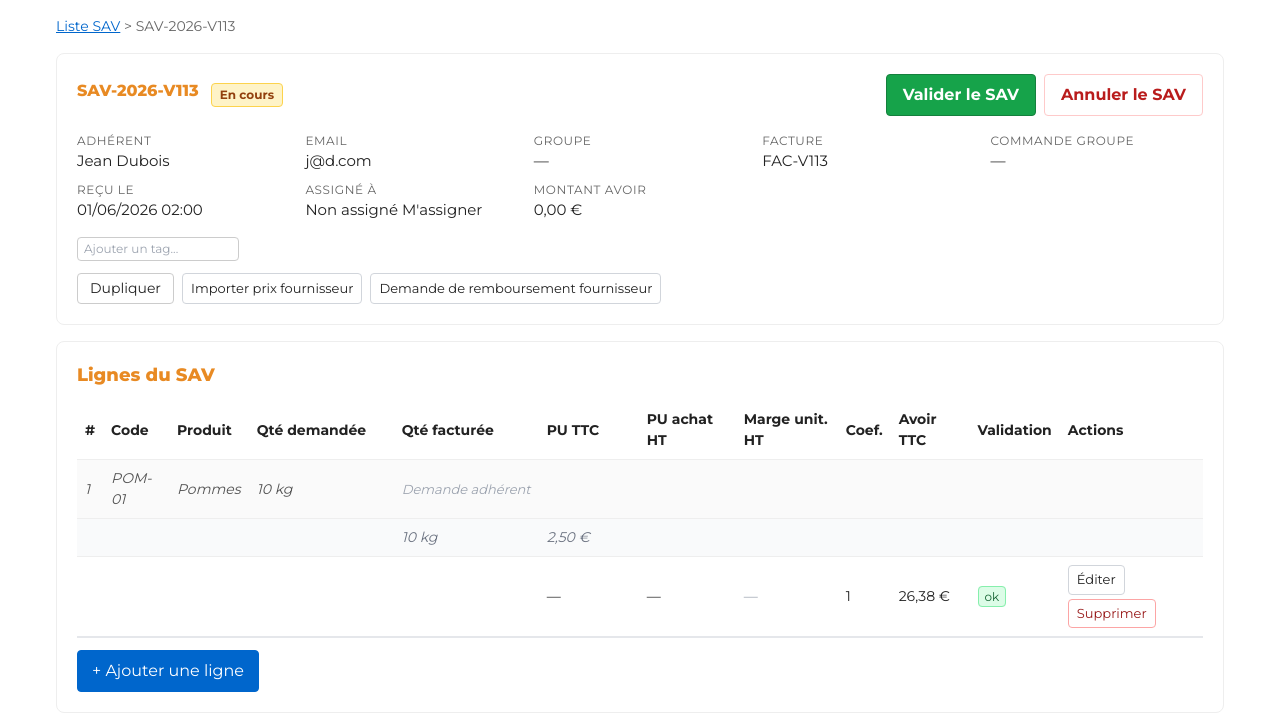
Scenario: SavDetailView — V1.13 AC#8 gate Valider › AC#8 (e) 422 CREDIT_NOTE_PDF_REQUIRED (race UI obsolète) → toast spécifique
Click the button with test id "sav-validate-btn" at {"x": 961, "y": 95}, box [886,74,1036,116]
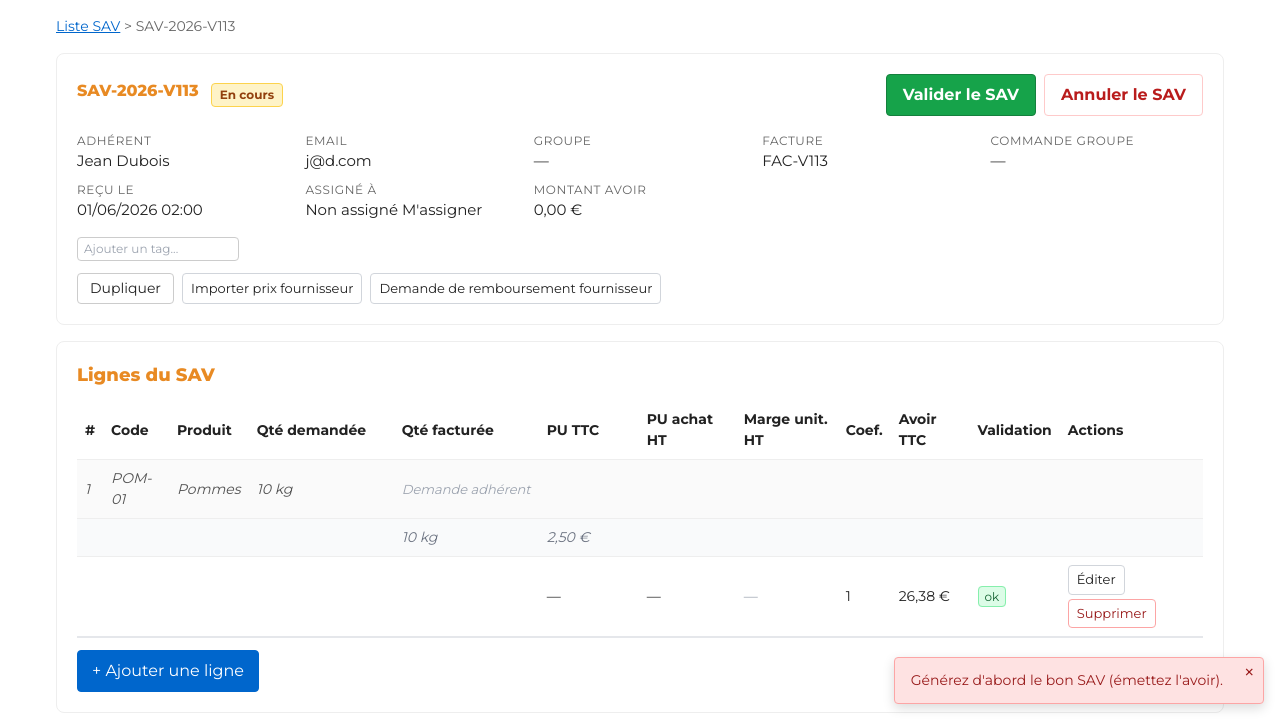
Expected: the message "Générez d'abord le bon SAV (émettez l'avoir). ×" is shown, [894,657,1264,704]
Expected: the message with test id "sav-toast" shows "Générez", [911,671,1223,689]
